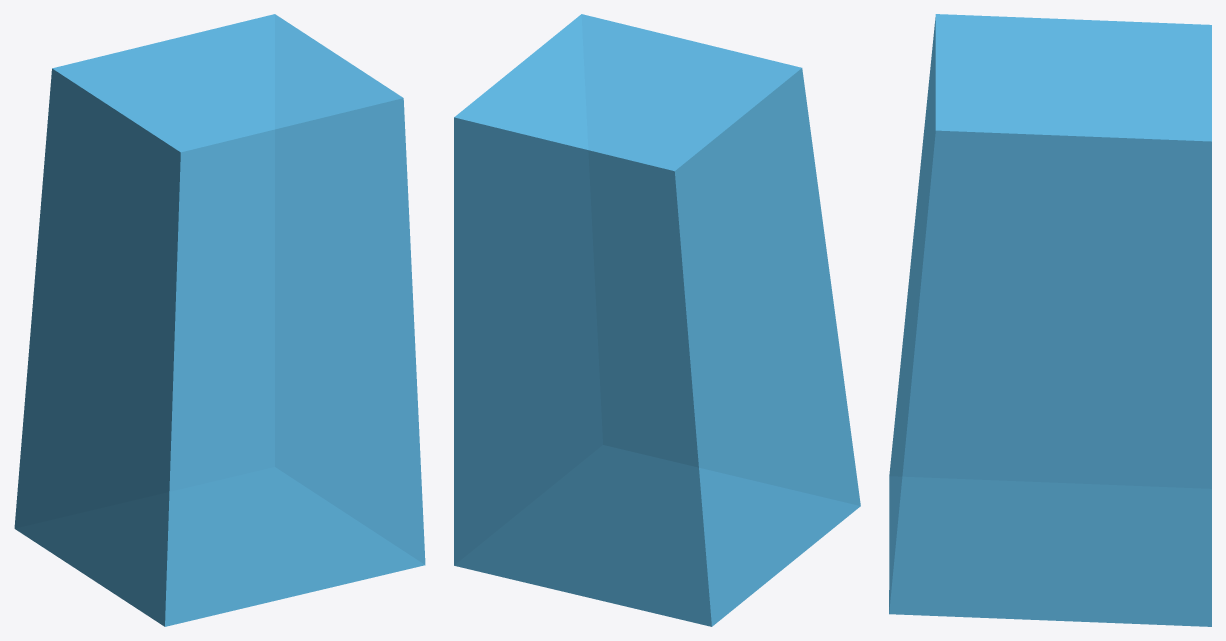
File: Event_421364160_HBrechit_6.fbx
3 renders of one model, left to right at view 1: azimuth 30°, elevation 25°; view 2: azimuth 150°, elevation 25°; view 3: azimuth 270°, elevation 25°, orthographic. The views are drawn at different scales.
Visible parts, largest first — view 1: Model; view 2: Model; view 3: Model.
Part boxes in pixels (<box>): Model: <box>14,14,425,626</box>; Model: <box>454,14,860,626</box>; Model: <box>889,14,1211,626</box>.
Size of the model in its own units: 0.4687 by 0.7962 by 0.4692.
